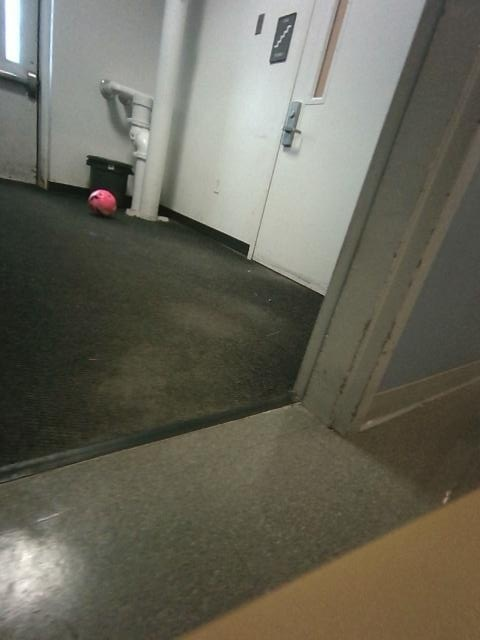ball: (88, 189, 116, 216)
